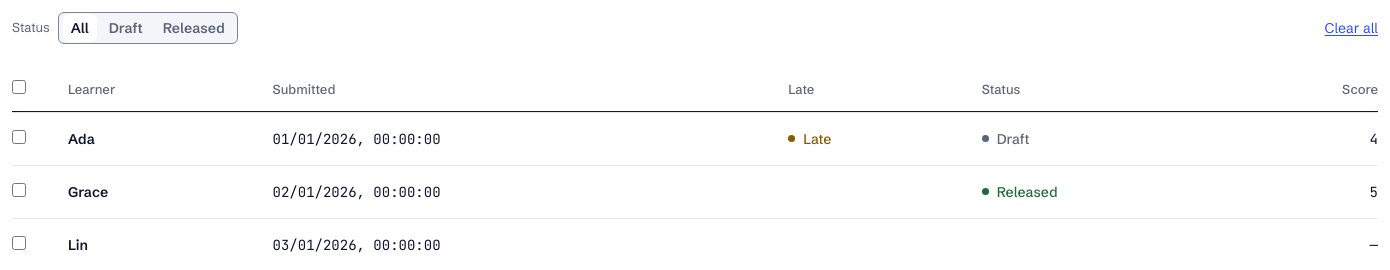
Test case: grading queue › filters with the existing segmented status control
What coordinates should you click on to do the following:
click the button "Released"
I would click on:
 (194, 28)
Its box is [155, 14, 233, 42].
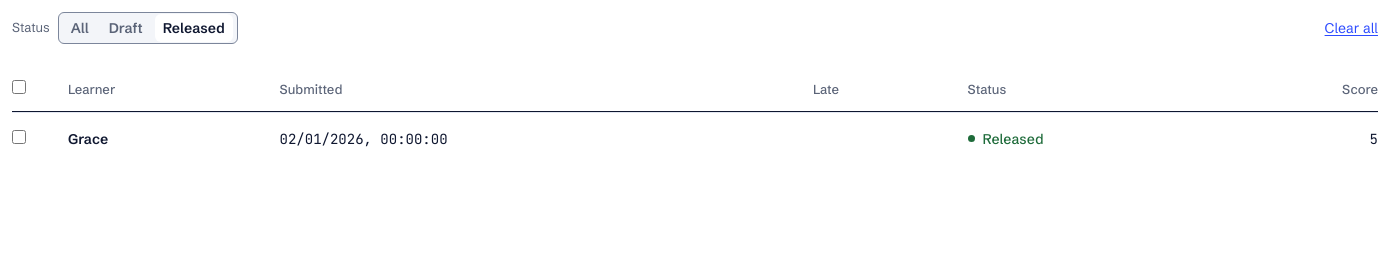
Check: the link "Grace" is shown, box [68, 129, 108, 149]
Check: the link "Ada" is gone
